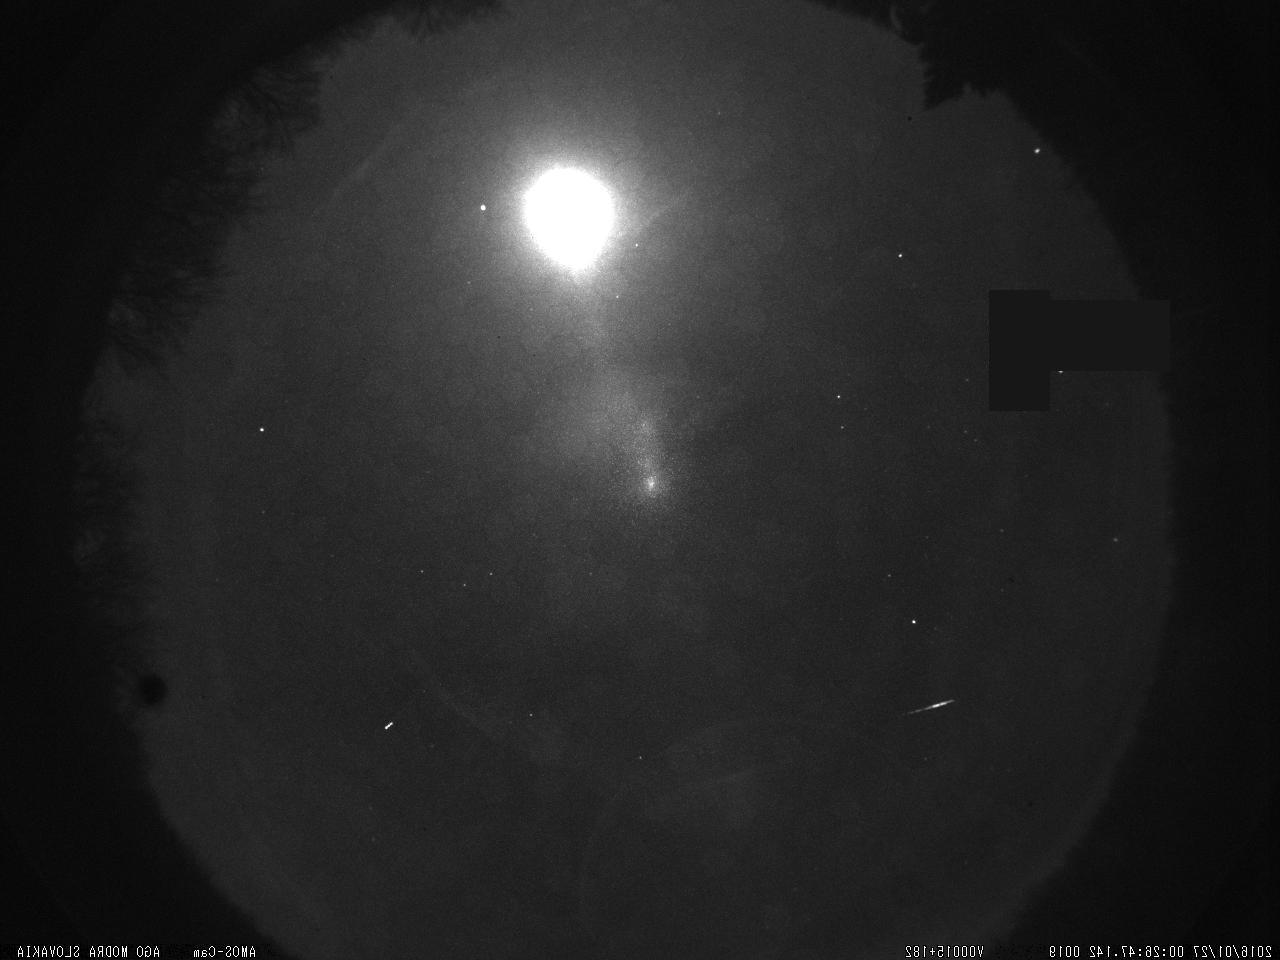meteor: (897, 684, 962, 726)
